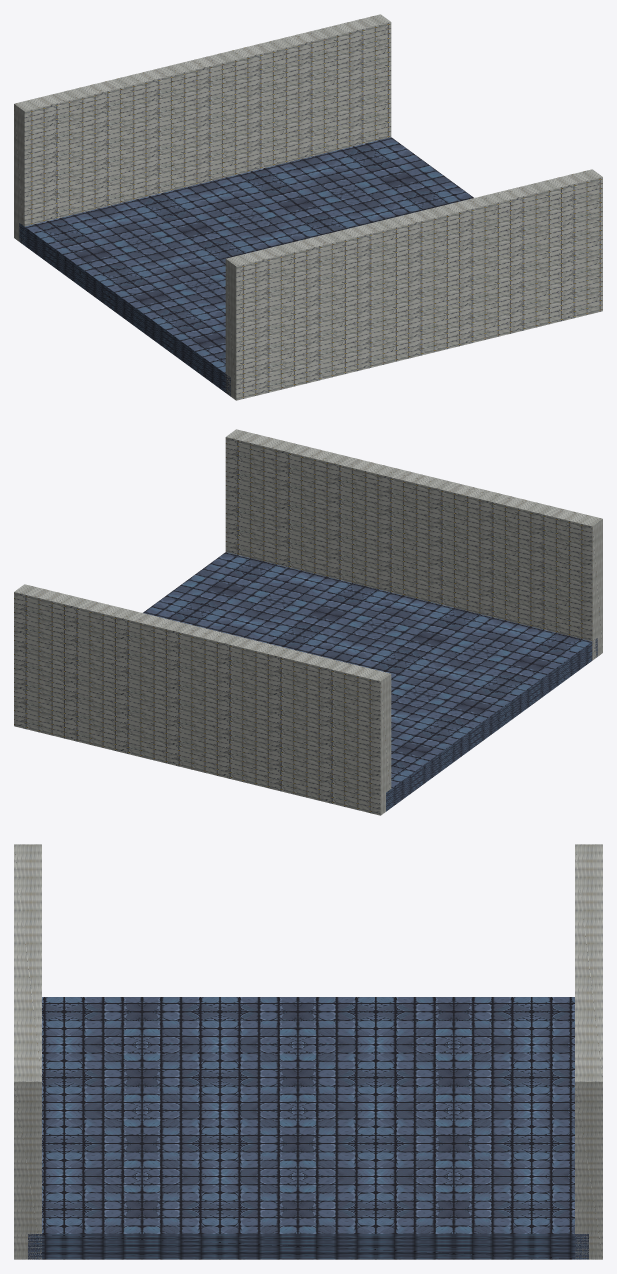
3 renders of one model, top to bottom at view 1: azimuth 30°, elevation 25°; view 2: azimuth 150°, elevation 25°; view 3: azimuth 270°, elevation 25°, orthographic. The views are drawn at different scales.
Visible parts, largest first — view 1: Cube.003, Cube.002, Cube.001; view 2: Cube.002, Cube.003, Cube.001; view 3: Cube.001, Cube.002, Cube.003.
Boxes of the visible parts, x1=… form: Cube.003: x1=225, y1=169, x2=602, y2=400; Cube.002: x1=14, y1=14, x2=391, y2=243; Cube.001: x1=19, y1=137, x2=473, y2=396; Cube.002: x1=14, y1=584, x2=391, y2=815; Cube.003: x1=225, y1=429, x2=602, y2=660; Cube.001: x1=143, y1=552, x2=597, y2=811; Cube.001: x1=28, y1=997, x2=588, y2=1259; Cube.002: x1=575, y1=844, x2=602, y2=1259; Cube.003: x1=14, y1=844, x2=41, y2=1259.
Size of what is drawn, in the model's own units: 40 by 14 by 42.
2 materials, 2 textured.
